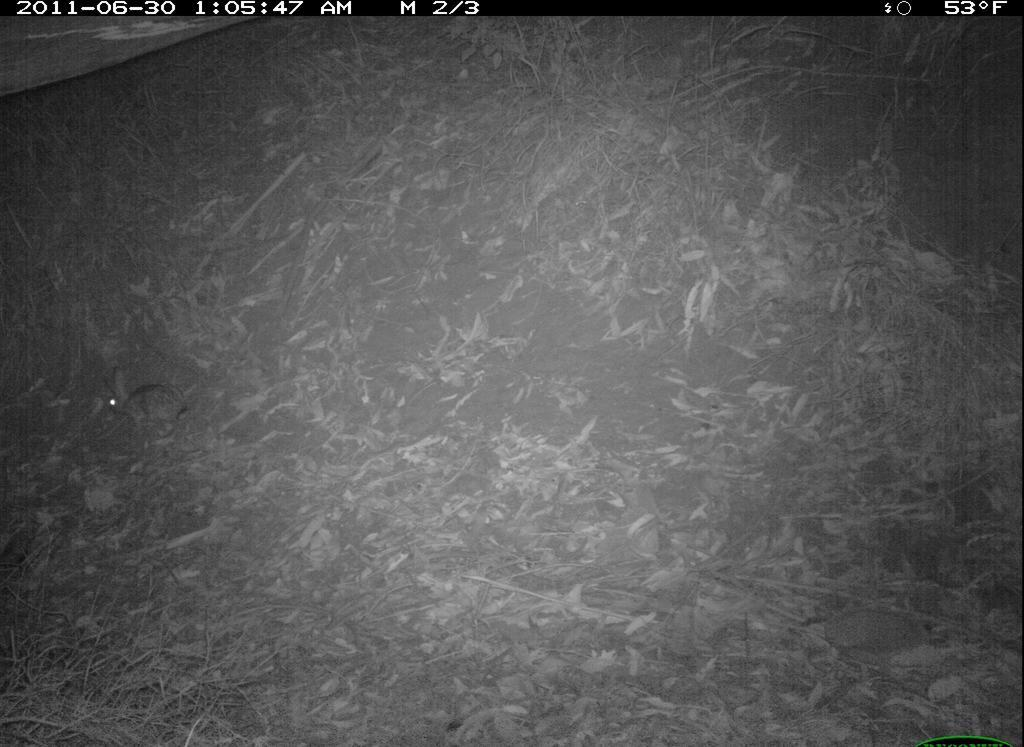rabbit: (97, 361, 198, 432)
